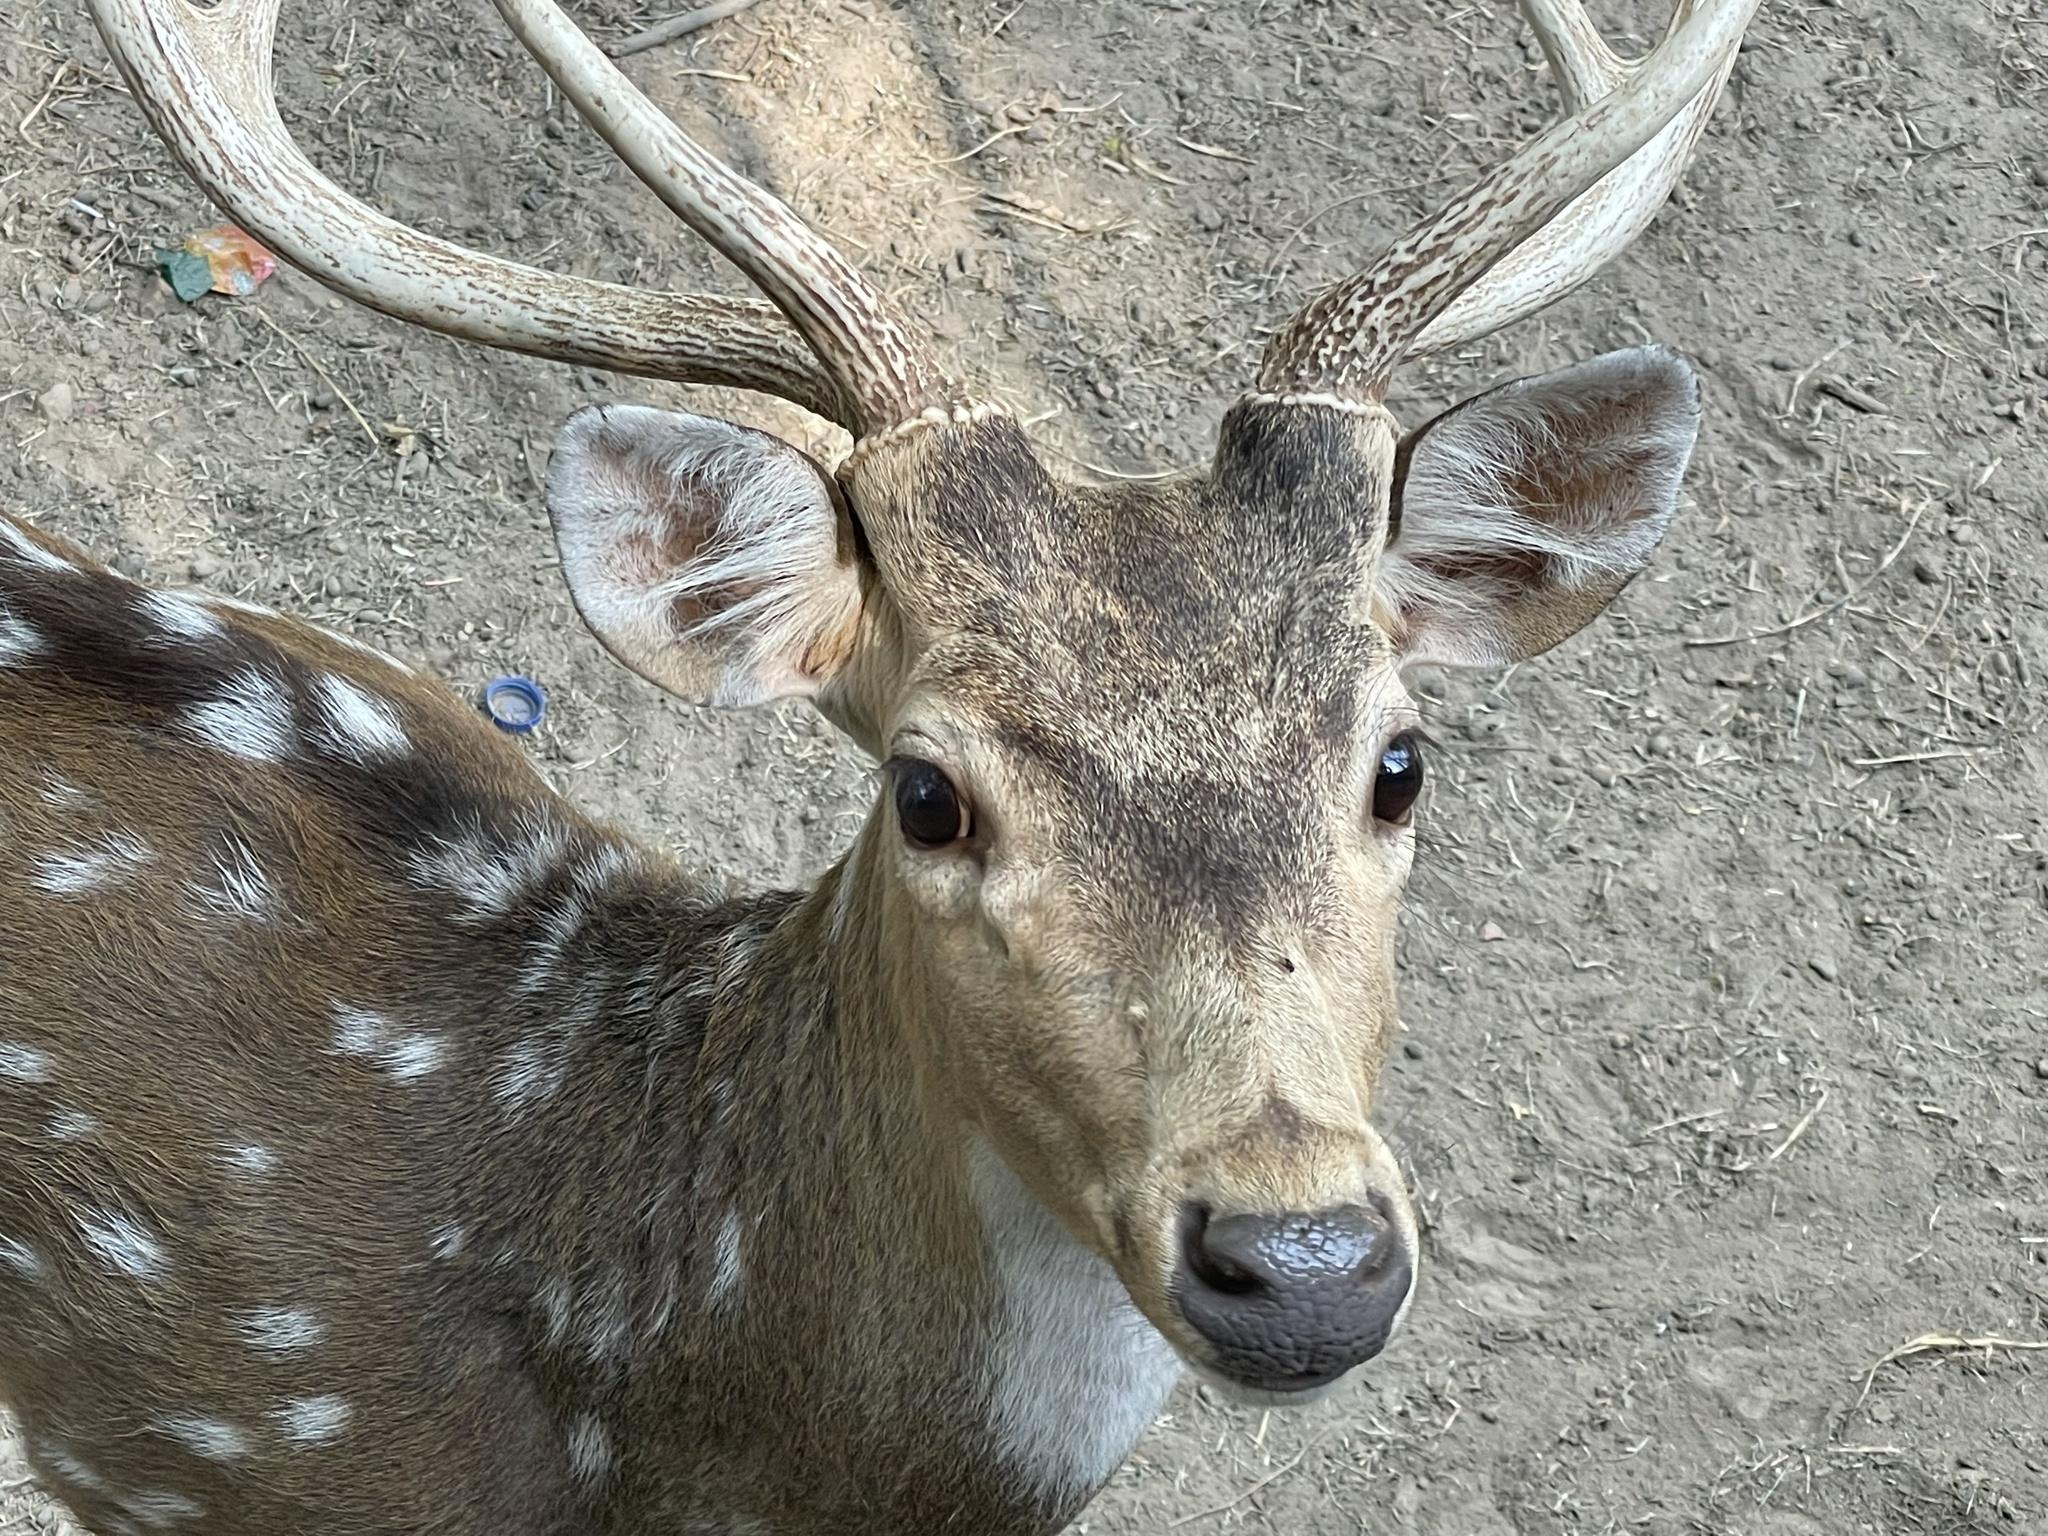Deer: (0, 0, 1756, 1533)
